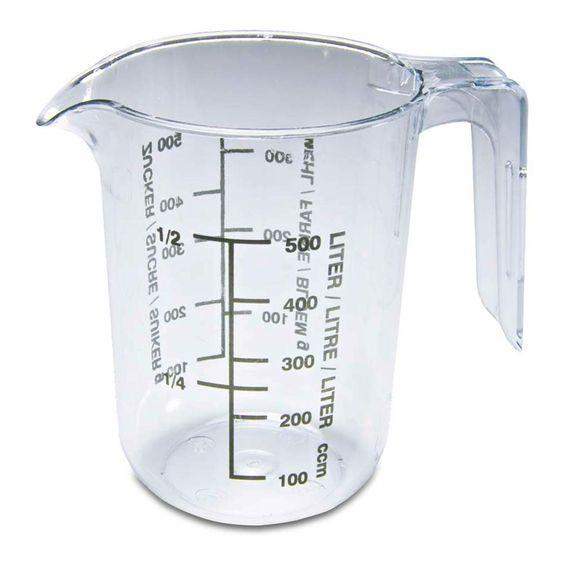PS: (30, 30, 529, 530)
